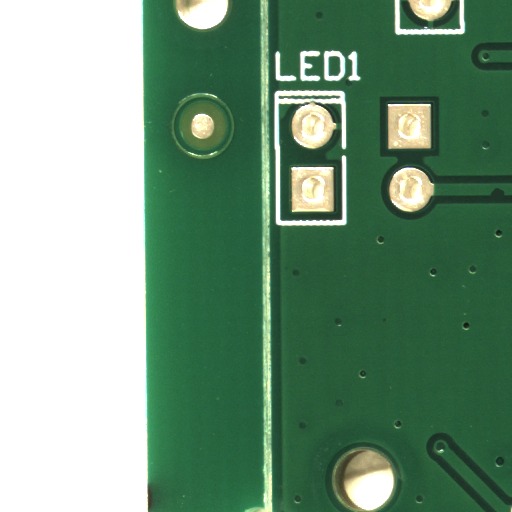Mouse_bite: (497, 193, 512, 203)
